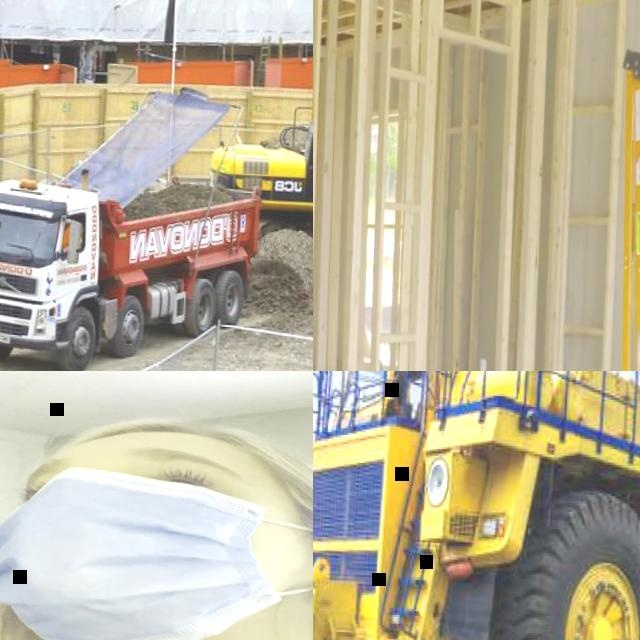Mask: (0, 463, 313, 640)
NO-Hardhat: (52, 415, 313, 472)
Person: (0, 407, 313, 640)
machinery: (313, 371, 640, 640), (0, 79, 266, 371), (201, 0, 313, 269)
